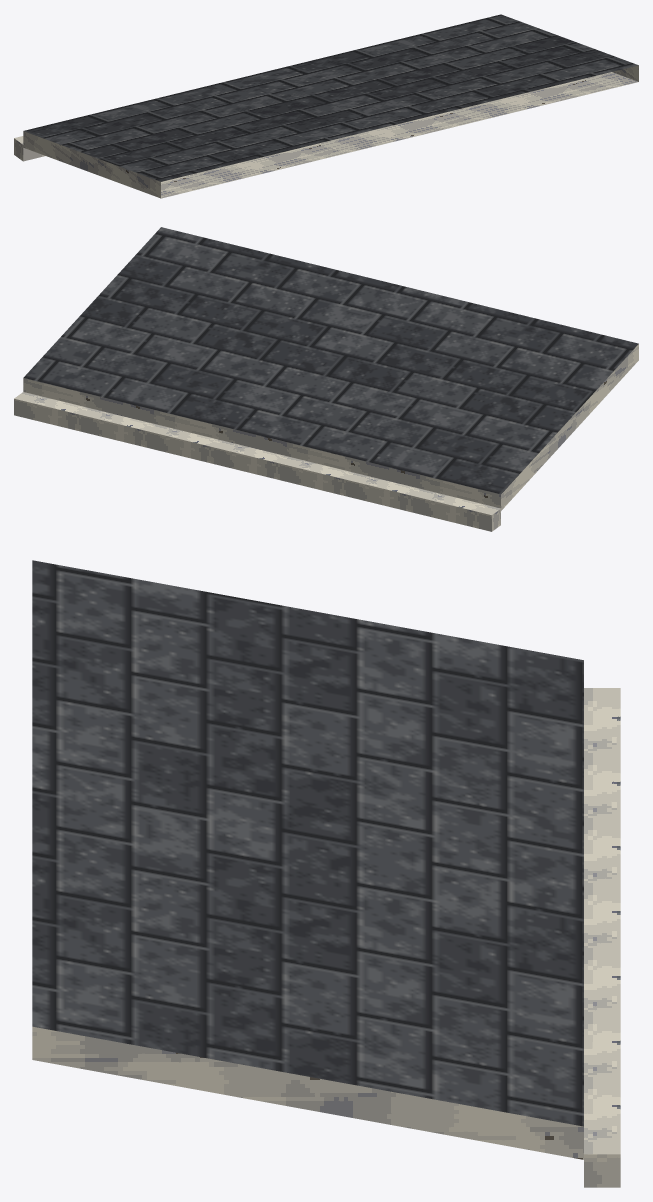
File: RES_Ext_Roof_Shed_3x1.5.obj
3 renders of one model, top to bottom at view 1: azimuth 30°, elevation 25°; view 2: azimuth 150°, elevation 25°; view 3: azimuth 270°, elevation 25°, orthographic. The views are drawn at different scales.
Visible parts, largest first — view 1: RES_Ext_Roof_Shed_3x1.5_Mesh_M_Arch_RoofShinglesDarkGray, RES_Ext_Roof_Shed_3x1.5_Mesh_M_Arch_TrimPainted, RES_Ext_Roof_Shed_3x1.5_Mesh_M_Town_PaintWhite; view 2: RES_Ext_Roof_Shed_3x1.5_Mesh_M_Arch_RoofShinglesDarkGray, RES_Ext_Roof_Shed_3x1.5_Mesh_M_Town_PaintWhite, RES_Ext_Roof_Shed_3x1.5_Mesh_M_Arch_TrimPainted; view 3: RES_Ext_Roof_Shed_3x1.5_Mesh_M_Arch_RoofShinglesDarkGray, RES_Ext_Roof_Shed_3x1.5_Mesh_M_Arch_TrimPainted, RES_Ext_Roof_Shed_3x1.5_Mesh_M_Town_PaintWhite.
Boxes of the visible parts, x1=… form: RES_Ext_Roof_Shed_3x1.5_Mesh_M_Arch_RoofShinglesDarkGray: x1=24, y1=14, x2=638, y2=181; RES_Ext_Roof_Shed_3x1.5_Mesh_M_Arch_TrimPainted: x1=23, y1=65, x2=638, y2=198; RES_Ext_Roof_Shed_3x1.5_Mesh_M_Town_PaintWhite: x1=14, y1=136, x2=44, y2=161; RES_Ext_Roof_Shed_3x1.5_Mesh_M_Arch_RoofShinglesDarkGray: x1=23, y1=227, x2=638, y2=494; RES_Ext_Roof_Shed_3x1.5_Mesh_M_Town_PaintWhite: x1=14, y1=392, x2=500, y2=531; RES_Ext_Roof_Shed_3x1.5_Mesh_M_Arch_TrimPainted: x1=23, y1=344, x2=638, y2=510; RES_Ext_Roof_Shed_3x1.5_Mesh_M_Arch_RoofShinglesDarkGray: x1=32, y1=560, x2=583, y2=1126; RES_Ext_Roof_Shed_3x1.5_Mesh_M_Arch_TrimPainted: x1=32, y1=1026, x2=583, y2=1159; RES_Ext_Roof_Shed_3x1.5_Mesh_M_Town_PaintWhite: x1=584, y1=688, x2=620, y2=1187.
Size of the model in its own units: 3.6 by 0.58 by 1.92.
Materials: 3 (3 with a texture image).
